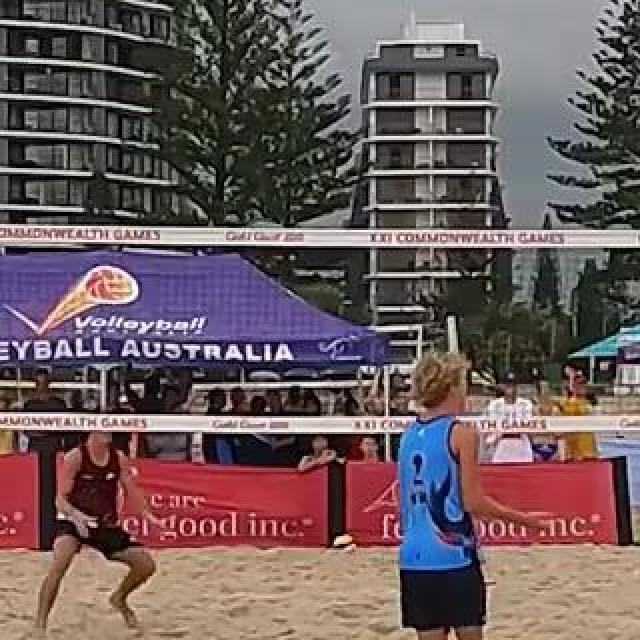volleyball: (335, 534, 359, 558)
